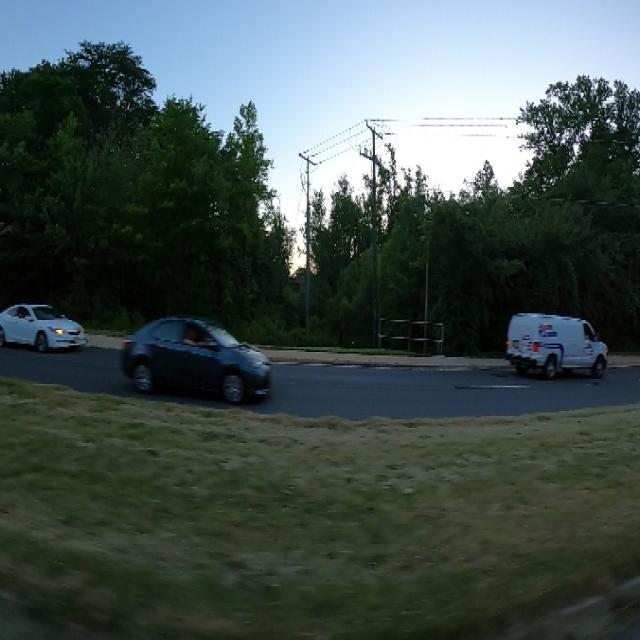cars: (115, 298, 280, 416), (502, 271, 617, 401), (0, 286, 94, 363)
